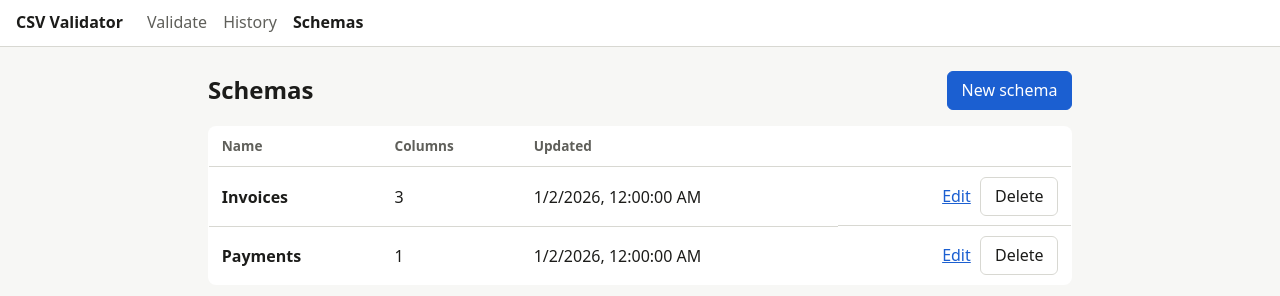
deleting a schema › only asks about one schema at a time
Click the button with aria-label "Delete Invoices". click: (1019, 196)
box: x1=980 y1=177 x2=1058 y2=216
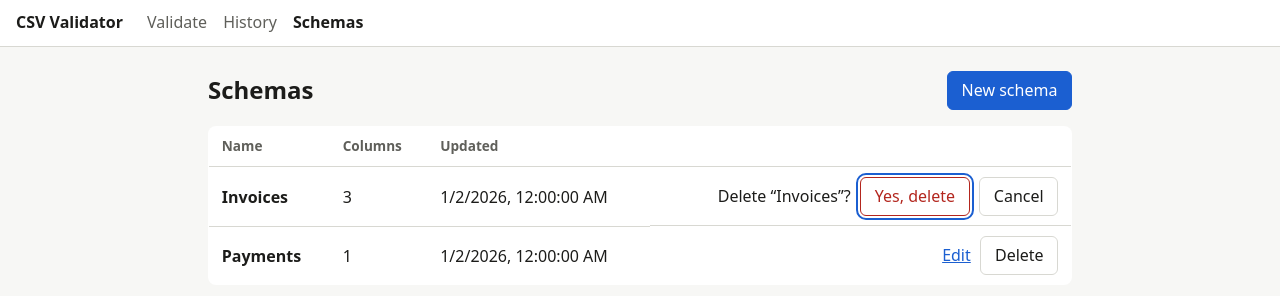
Click the button with aria-label "Delete Payments". click: (1019, 255)
box: x1=980 y1=236 x2=1058 y2=275
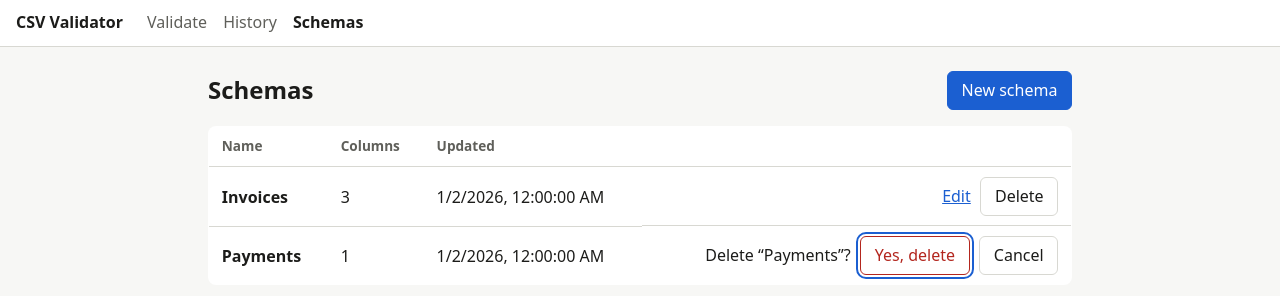
Check: the number of buttons "Yes, delete" is 1, box x1=860 y1=236 x2=970 y2=275
Check: the text "Delete “Payments”?" is shown, box x1=705 y1=243 x2=851 y2=267
